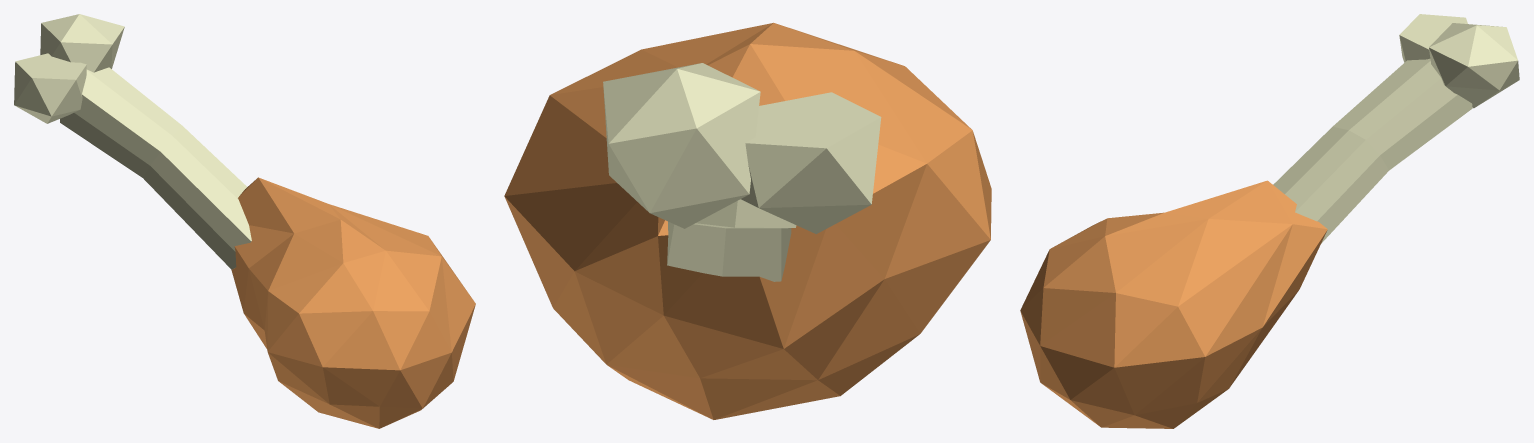
3 renders of one model, left to right at view 1: azimuth 30°, elevation 25°; view 2: azimuth 150°, elevation 25°; view 3: azimuth 270°, elevation 25°, orthographic. The views are drawn at different scales.
Parts seen in each view (by area): view 1: Icosphere, Cube, Icosphere.002, Icosphere.001; view 2: Icosphere, Icosphere.001, Icosphere.002, Cube; view 3: Icosphere, Cube, Icosphere.001, Icosphere.002.
Part boxes in pixels (x1,y1,x2,y2): Icosphere: (231, 177, 475, 428); Cube: (60, 67, 251, 269); Icosphere.002: (14, 53, 86, 123); Icosphere.001: (40, 14, 124, 72); Icosphere: (504, 22, 991, 419); Icosphere.001: (603, 63, 760, 228); Icosphere.002: (741, 92, 881, 234); Cube: (667, 199, 796, 281); Icosphere: (1020, 180, 1327, 428); Cube: (1273, 58, 1472, 243); Icosphere.001: (1429, 23, 1519, 108); Icosphere.002: (1399, 14, 1467, 62).
Bounding box in the file's own units: 3.42 × 3.39 × 4.63.
